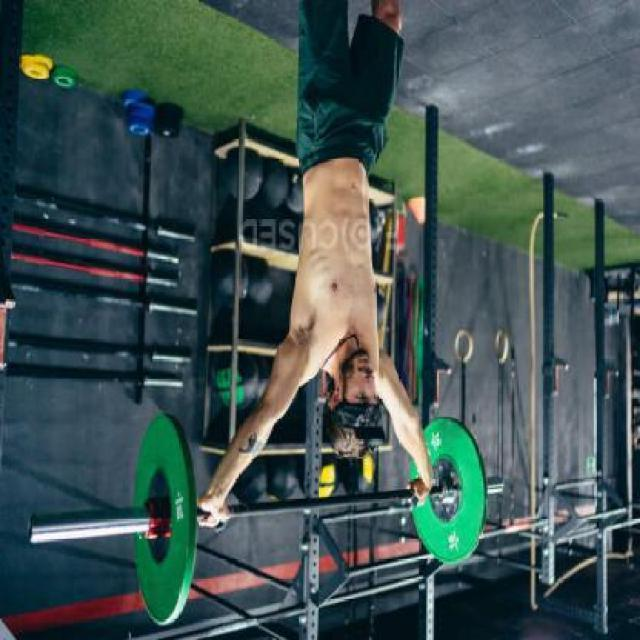Barbell: (25, 504, 50, 550)
